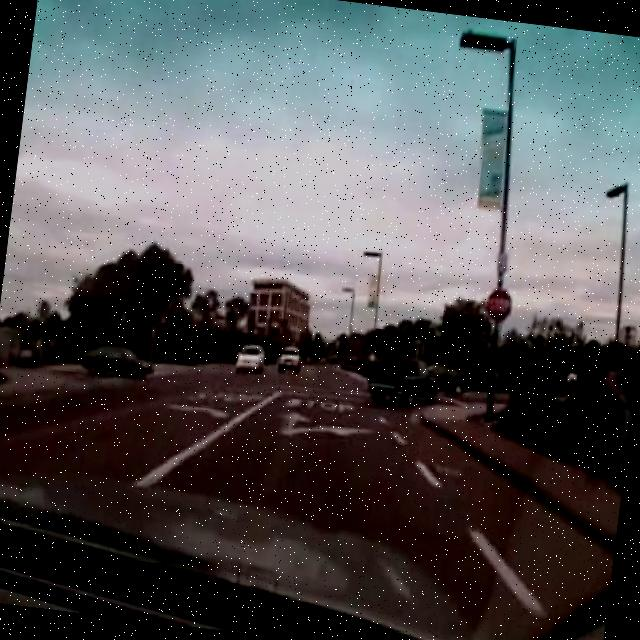Stop: (482, 282, 516, 328)
